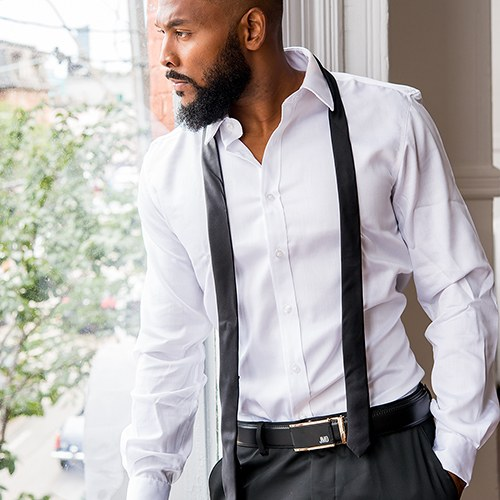F_belt: (209, 412, 443, 453)
F_shirt: (113, 68, 500, 480)
